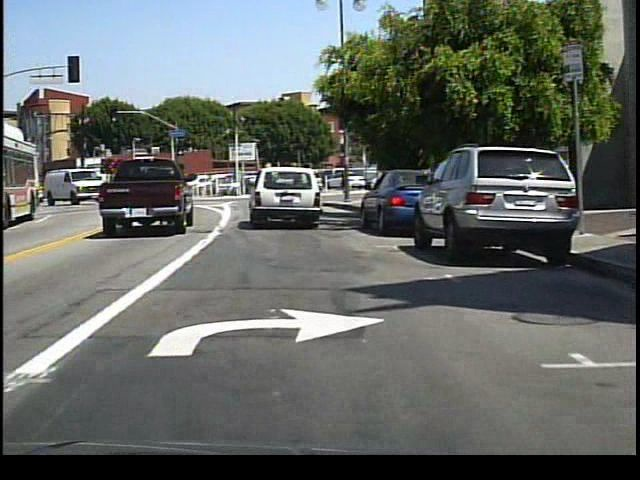person: (337, 169, 352, 200)
